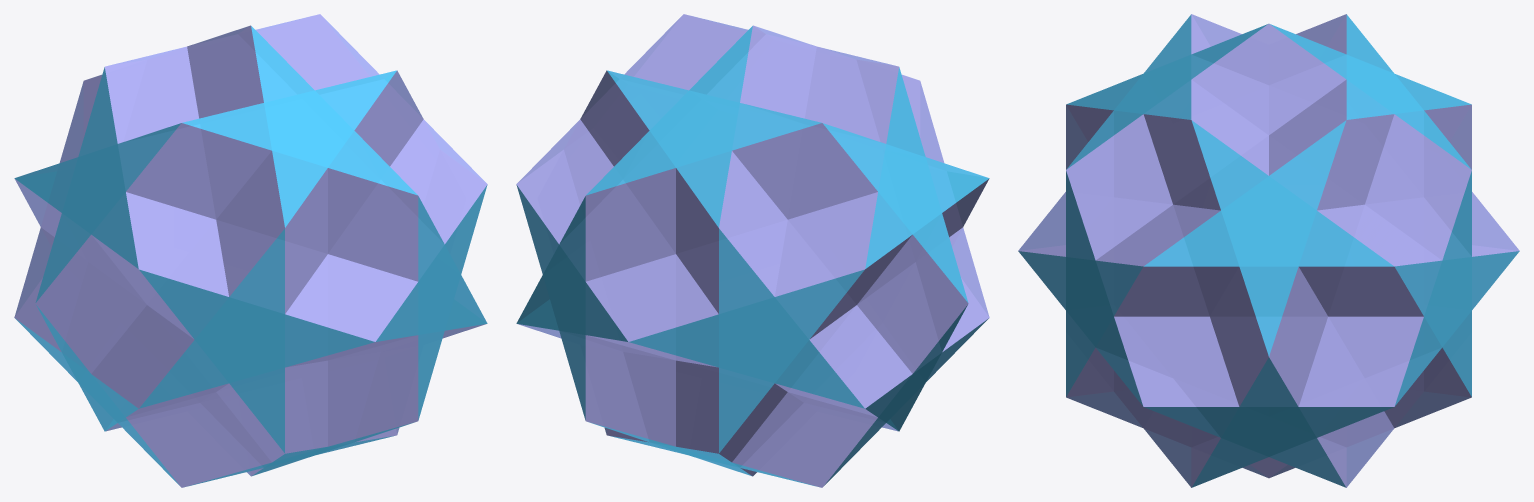
File: Dodecadodecahedron.obj
3 renders of one model, left to right at view 1: azimuth 30°, elevation 25°; view 2: azimuth 150°, elevation 25°; view 3: azimuth 270°, elevation 25°, orthographic.
Bounding box in the file's own units: 2 × 2 × 2.
